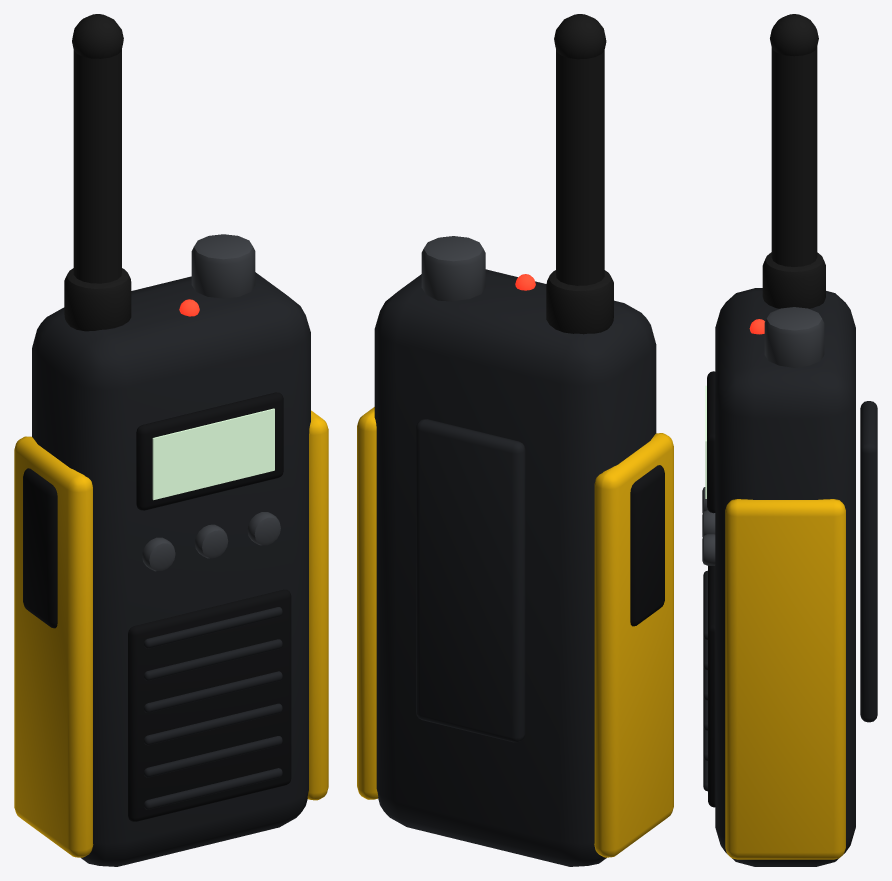
File: walkie.glb
3 renders of one model, left to right at view 1: azimuth 30°, elevation 25°; view 2: azimuth 150°, elevation 25°; view 3: azimuth 270°, elevation 25°, orthographic. The views are drawn at different scales.
Visible parts, largest first — view 1: Walkie; view 2: Walkie; view 3: Walkie.
Boxes of the visible parts, box(x1,y1,x2,y2) form: Walkie: box(14, 14, 328, 866); Walkie: box(357, 14, 673, 866); Walkie: box(702, 14, 877, 866).
Size of the model in its own units: 0.0655 by 0.1956 by 0.04.
